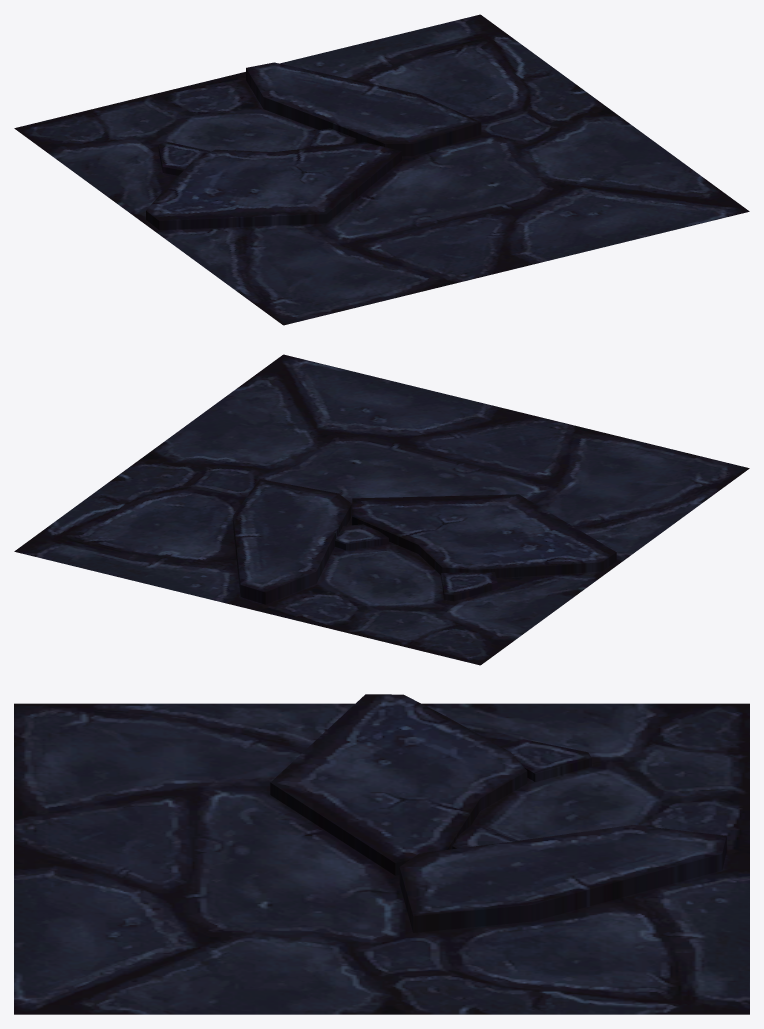
Rendered from palace_floor_blank_06.fbx.
The picture shows the model from 3 angles, top to bottom: view 1: azimuth 30°, elevation 25°; view 2: azimuth 150°, elevation 25°; view 3: azimuth 270°, elevation 25°; orthographic projection. The views are drawn at different scales.
Parts seen in each view (by area): view 1: palace_tileset/palace_floor01_shadow_mat; view 2: palace_tileset/palace_floor01_shadow_mat; view 3: palace_tileset/palace_floor01_shadow_mat.
Part boxes in pixels (bbox=[...]): palace_tileset/palace_floor01_shadow_mat: bbox=[14, 14, 749, 325]; palace_tileset/palace_floor01_shadow_mat: bbox=[14, 354, 749, 665]; palace_tileset/palace_floor01_shadow_mat: bbox=[14, 694, 749, 1014].
Bounding box in the file's own units: 4 × 0.1 × 4.
